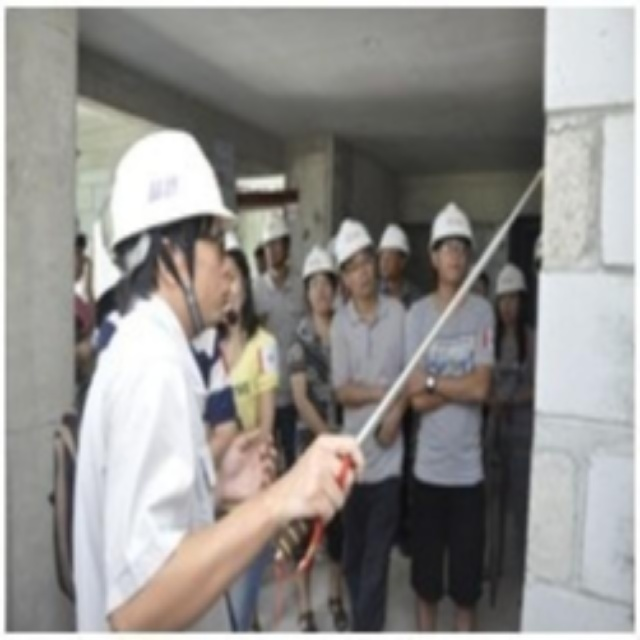Con_Casco: (111, 132, 237, 336)
